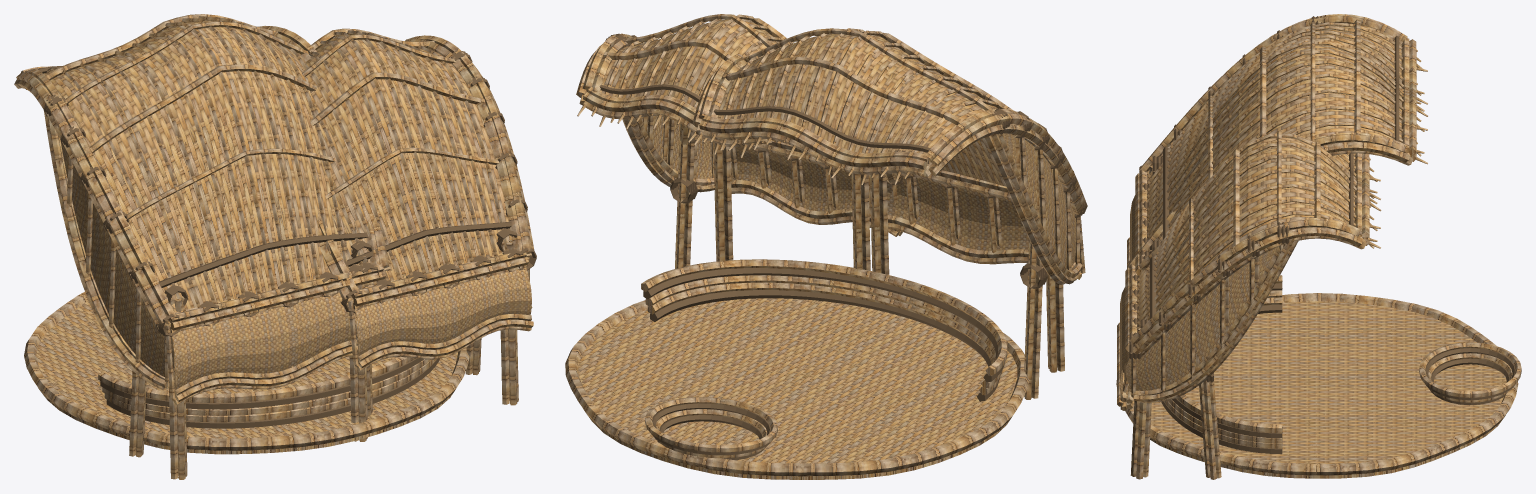
File: root-nursery.glb
The picture shows the model from 3 angles, left to right: view 1: azimuth 30°, elevation 25°; view 2: azimuth 150°, elevation 25°; view 3: azimuth 270°, elevation 25°; orthographic projection. The views are drawn at different scales.
Visible parts, largest first — view 1: nursery-hood-finish, nursery-base-floor-bindings, nursery-frame; view 2: nursery-hood-finish, nursery-base-floor-bindings, nursery-nest-finish, nursery-frame; view 3: nursery-hood-finish, nursery-base-floor-bindings, nursery-nest-finish, nursery-frame.
Part boxes in pixels (x1=…): nursery-hood-finish: x1=14, y1=14, x2=536, y2=479; nursery-base-floor-bindings: x1=24, y1=291, x2=469, y2=454; nursery-frame: x1=129, y1=338, x2=481, y2=457; nursery-hood-finish: x1=576, y1=14, x2=1087, y2=372; nursery-base-floor-bindings: x1=565, y1=259, x2=1029, y2=479; nursery-nest-finish: x1=645, y1=397, x2=777, y2=460; nursery-frame: x1=670, y1=123, x2=1047, y2=399; nursery-hood-finish: x1=1117, y1=14, x2=1427, y2=479; nursery-base-floor-bindings: x1=1116, y1=275, x2=1518, y2=478; nursery-nest-finish: x1=1419, y1=342, x2=1521, y2=404; nursery-frame: x1=1199, y1=373, x2=1221, y2=479.
Bounding box in the file's own units: 1.53 × 1.3 × 1.42.
3 materials, 2 textured.
